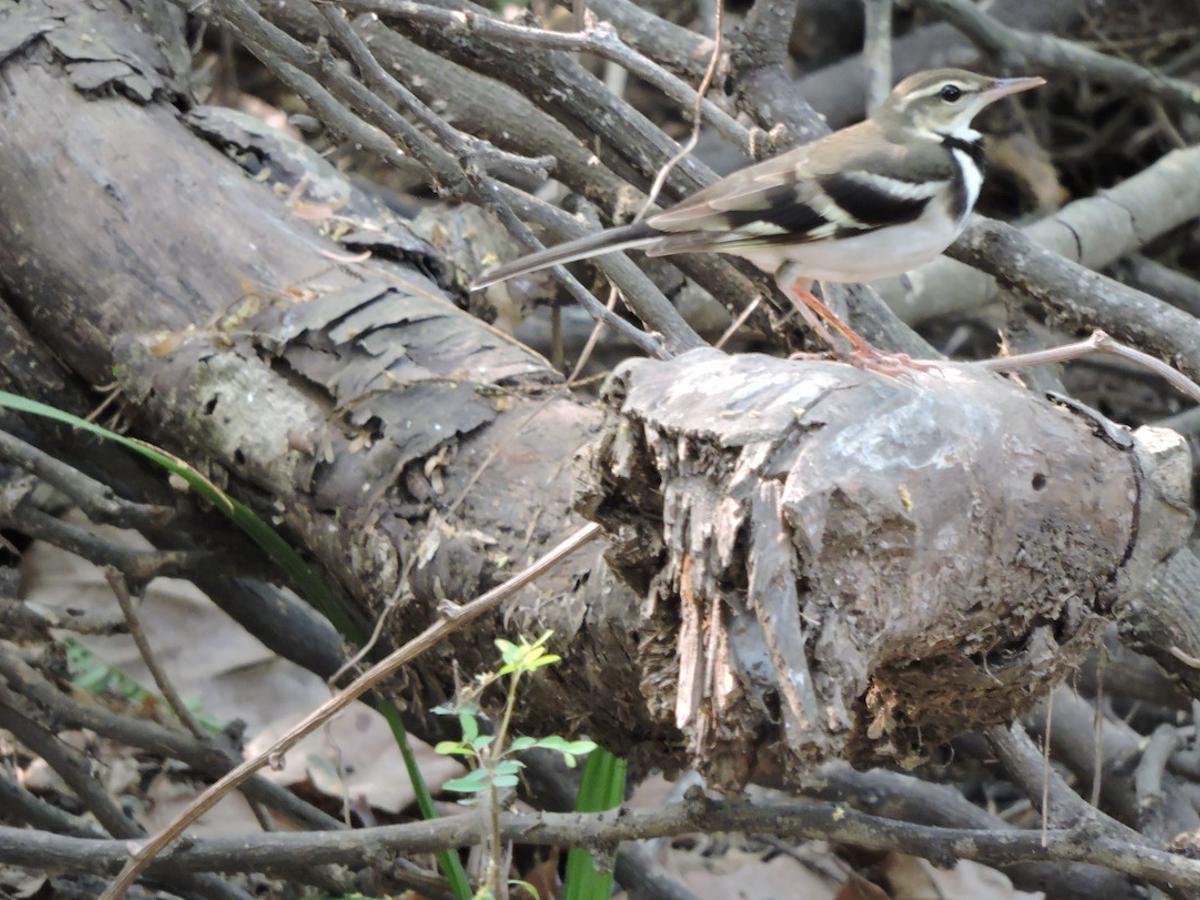wagtail: (535, 55, 1043, 307)
